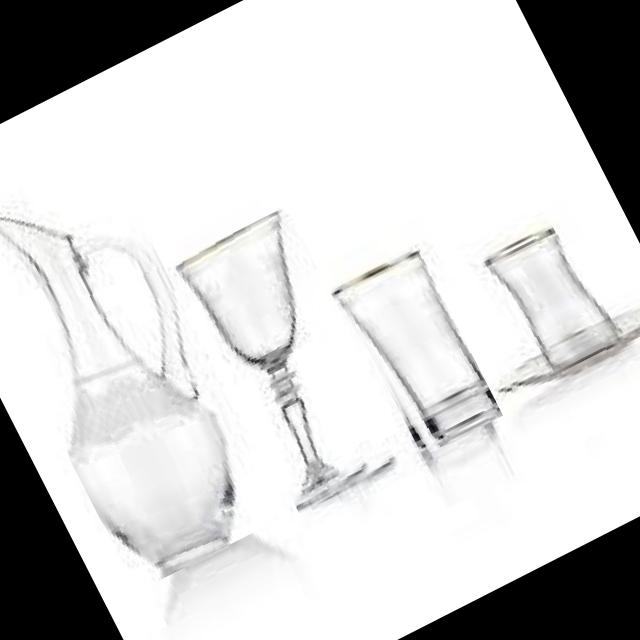Glass: (0, 140, 292, 591), (172, 208, 412, 516), (439, 196, 640, 410), (325, 244, 503, 462)
